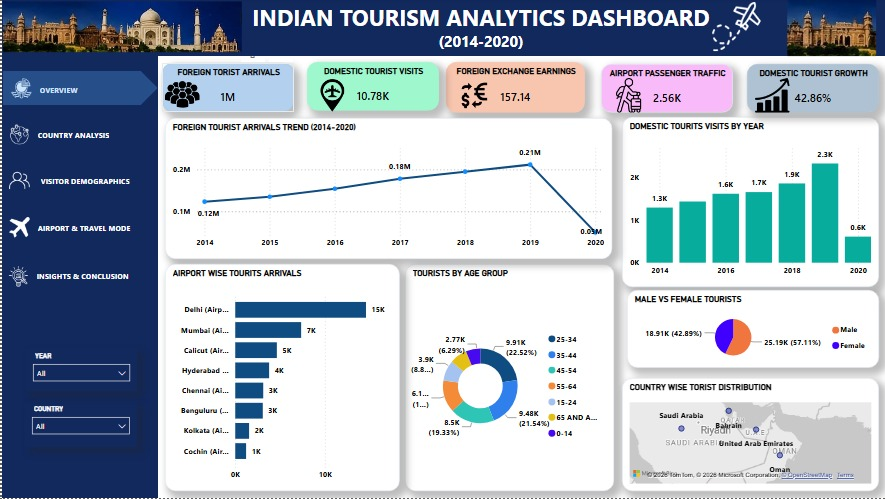

What the dashboard file says about the page in this screenshot:
{"tool":"powerbi","page":{"name":"OVERVIEW","canvas":[1280,720],"ordinal":0},"visuals":[{"type":"shape","box":[0,76.3,224.6,643.7],"z":0},{"type":"actionButton","box":[50.4,119.5,99.4,25.9],"z":1000},{"type":"cardVisual","title":" FOREIGN TORIST ARRIVALS","fields":{"Data":["Sum(General Data 2014-2020.feeftit)"]},"box":[230.4,93.6,190,70],"z":2000},{"type":"cardVisual","title":"AIRPORT PASSENGER TRAFFIC","fields":{"Data":["Sum(General Data 2014-2020.apfitr)"]},"box":[862.6,95,190,70],"z":3000},{"type":"donutChart","title":"TOURISTS BY AGE GROUP","fields":{"Category":["Country Wise Age Group.Attribute.2"],"Y":["Sum(Country Wise Age Group.Value)"]},"box":[580.3,383,301,326.9],"z":4000},{"type":"cardVisual","title":" FOREIGN EXCHANGE EARNINGS","fields":{"Data":["Sum(General Data 2014-2020.feeftust)"]},"box":[639.4,92.2,200,73.4],"z":5000},{"type":"cardVisual","title":"DOMESTIC TOURIST VISITS","fields":{"Data":["Sum(General Data 2014-2020.nodtvasu)"]},"box":[438.8,92.2,190,70],"z":6000},{"type":"slicer","fields":{"Values":["Country Wise Airport.Attribute.1"]},"box":[34.6,504,159.8,61.9],"z":7000},{"type":"clusteredColumnChart","title":"DOMESTIC TOURITS VISITS BY YEAR","fields":{"Category":["General Data 2014-2020.year"],"Y":["Sum(General Data 2014-2020.nodtvasu)"]},"box":[892.8,171.4,370.1,244.8],"z":8000},{"type":"lineChart","title":"FOREIGN TOURIST ARRIVALS TREND (2014-2020)","fields":{"Category":["General Data 2014-2020.year"],"Y":["Sum(General Data 2014-2020.feeftit)"]},"box":[234.7,172.8,643.7,203],"z":9000},{"type":"image","box":[12.7,115,30,30],"z":10000},{"type":"clusteredBarChart","title":"AIRPORT WISE TOURITS ARRIVALS","fields":{"Category":["Country Wise Airport.Attribute.2"],"Y":["Sum(Country Wise Airport.Value)"]},"box":[234.7,383,338.4,326.9],"z":11000},{"type":"image","box":[9.9,182,30,30],"z":12000},{"type":"actionButton","box":[47.5,182.2,130.4,29.8],"z":13000},{"type":"image","box":[9.9,315.9,30,30],"z":14000},{"type":"actionButton","box":[47.5,315.8,151.2,30.2],"z":15000},{"type":"image","box":[9.9,247.5,30,30],"z":16000},{"type":"actionButton","box":[51.8,247.4,148.3,30.2],"z":17000},{"type":"shape","box":[0,0,1278.7,83.5],"z":18000},{"type":"image","box":[1006.6,5.8,102.2,70.6],"z":19000},{"type":"cardVisual","title":"DOMESTIC TOURIST GROWTH","fields":{"Data":["Avg(General Data 2014-2020.nodtvasuagr)"]},"box":[1072.8,95,190,70],"z":20000},{"type":"pieChart","title":"MALE VS FEMALE TOURISTS","fields":{"Category":["Country Wise Gender.Attribute.2"],"Y":["Sum(Country Wise Gender.Value)"]},"box":[900,420.5,362.9,112.3],"z":21000},{"type":"map","title":"COUNTRY WISE TORIST DISTRIBUTION","fields":{"Category":["Country Wise Visitors Ways.Country of Nationality"],"Size":["Sum(Country Wise Visitors Ways.Value)"]},"box":[892.8,547.2,370.1,162.7],"z":22000},{"type":"textbox","box":[326.9,0,725.8,89.3],"z":23000},{"type":"actionButton","box":[46.1,385.9,148.3,27.4],"z":26000},{"type":"image","box":[8.4,385.8,30,30],"z":28000},{"type":"image","box":[234.7,113.8,50,50.4],"z":30000},{"type":"image","box":[450.7,115.2,50,50],"z":31000},{"type":"image","box":[1084.3,115.2,50,50],"z":32000},{"type":"image","box":[877,115.2,50,50],"z":33000},{"type":"image","box":[655.2,115.2,50,50],"z":34000},{"type":"image","box":[1.4,0,344.2,83.5],"z":35000},{"type":"image","box":[1108.8,0,171.4,83.5],"z":36000},{"type":"shape","box":[1.4,105.1,223.2,49],"z":37000},{"type":"shape","box":[0,171.4,223.2,49],"z":38000},{"type":"shape","box":[0,237.6,223.2,49],"z":39000},{"type":"shape","box":[0,303.8,223.2,49],"z":40000},{"type":"shape","box":[0,375.8,223.2,49],"z":43000},{"type":"slicer","fields":{"Values":["Country Wise Age Group.Country of Nationality"]},"box":[33.1,580.3,161.3,66.2],"z":44000}]}

Visuals, with their boxes on the page's 1280x720 design canvas (x1, y1, x2, y2). These are canvas units, not pixel positions in the 885x499 screenshot, which may show the page scaled, cropped or inside an application window:
shape: [0,76,225,720]
actionButton: [50,120,150,145]
" FOREIGN TORIST ARRIVALS" cardVisual: [230,94,420,164]
"AIRPORT PASSENGER TRAFFIC" cardVisual: [863,95,1053,165]
"TOURISTS BY AGE GROUP" donutChart: [580,383,881,710]
" FOREIGN EXCHANGE EARNINGS" cardVisual: [639,92,839,166]
"DOMESTIC TOURIST VISITS" cardVisual: [439,92,629,162]
slicer - Country Wise Airport.Attribute.1: [35,504,194,566]
"DOMESTIC TOURITS VISITS BY YEAR" clusteredColumnChart: [893,171,1263,416]
"FOREIGN TOURIST ARRIVALS TREND (2014-2020)" lineChart: [235,173,878,376]
image: [13,115,43,145]
"AIRPORT WISE TOURITS ARRIVALS" clusteredBarChart: [235,383,573,710]
image: [10,182,40,212]
actionButton: [48,182,178,212]
image: [10,316,40,346]
actionButton: [48,316,199,346]
image: [10,248,40,278]
actionButton: [52,247,200,278]
shape: [0,0,1279,84]
image: [1007,6,1109,76]
"DOMESTIC TOURIST GROWTH" cardVisual: [1073,95,1263,165]
"MALE VS FEMALE TOURISTS" pieChart: [900,420,1263,533]
"COUNTRY WISE TORIST DISTRIBUTION" map: [893,547,1263,710]
textbox: [327,0,1053,89]
actionButton: [46,386,194,413]
image: [8,386,38,416]
image: [235,114,285,164]
image: [451,115,501,165]
image: [1084,115,1134,165]
image: [877,115,927,165]
image: [655,115,705,165]
image: [1,0,346,84]
image: [1109,0,1280,84]
shape: [1,105,225,154]
shape: [0,171,223,220]
shape: [0,238,223,287]
shape: [0,304,223,353]
shape: [0,376,223,425]
slicer - Country Wise Age Group.Country of Nationality: [33,580,194,646]
